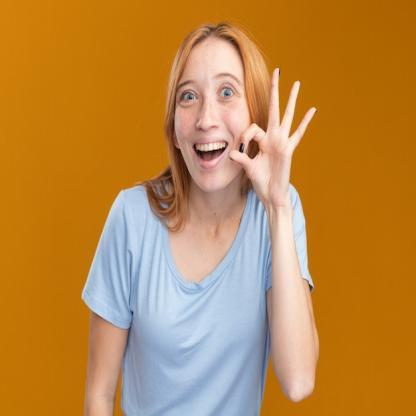ok: (225, 61, 320, 202)
